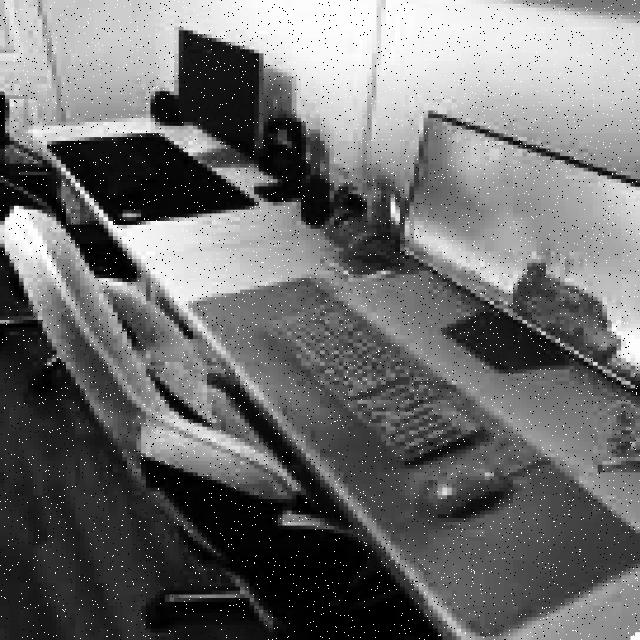table: (9, 110, 640, 640)
